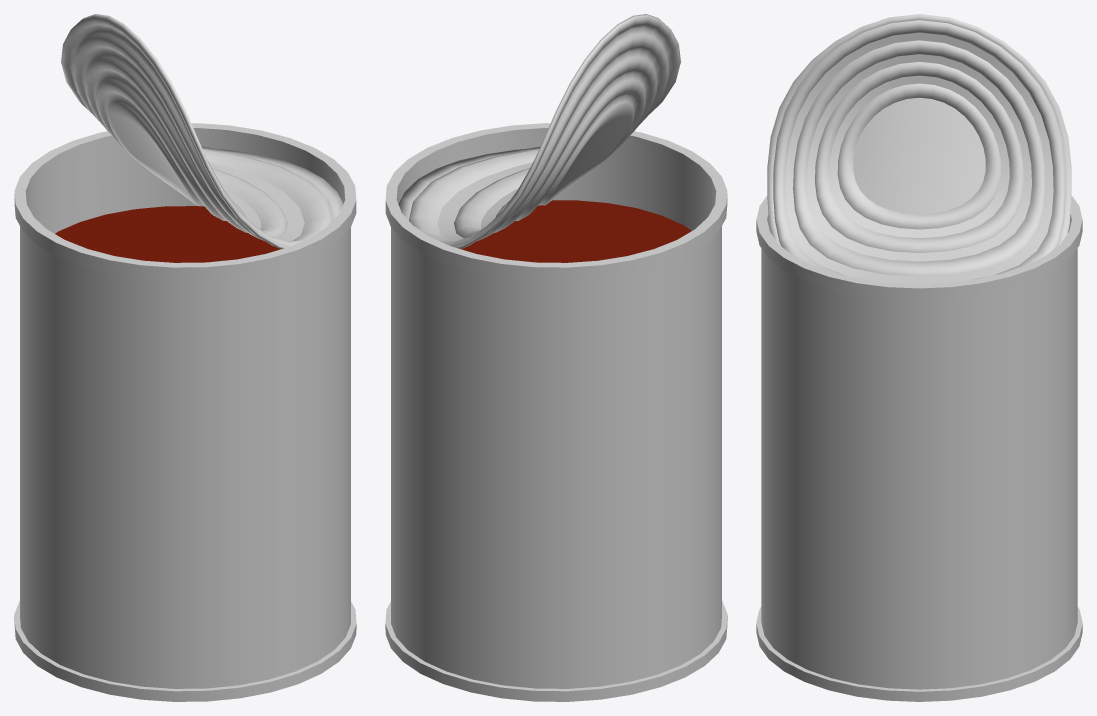
Rendered from tomatburck100.fbx.
3 renders of one model, left to right at view 1: azimuth 30°, elevation 25°; view 2: azimuth 150°, elevation 25°; view 3: azimuth 270°, elevation 25°, orthographic. The views are drawn at different scales.
Visible parts, largest first — view 1: Burk, Lid, sos; view 2: Burk, Lid, sos; view 3: Burk, Lid.
Part boxes in pixels (box(x1,y1,x2,y2)): Burk: box(14, 123, 356, 701); Lid: box(61, 14, 343, 248); sos: box(55, 206, 280, 262); Burk: box(385, 123, 727, 701); Lid: box(398, 14, 680, 248); sos: box(461, 200, 691, 262); Burk: box(756, 196, 1082, 701); Lid: box(767, 14, 1071, 283).
Bounding box in the file's own units: 11.64 × 23.24 × 11.64.
